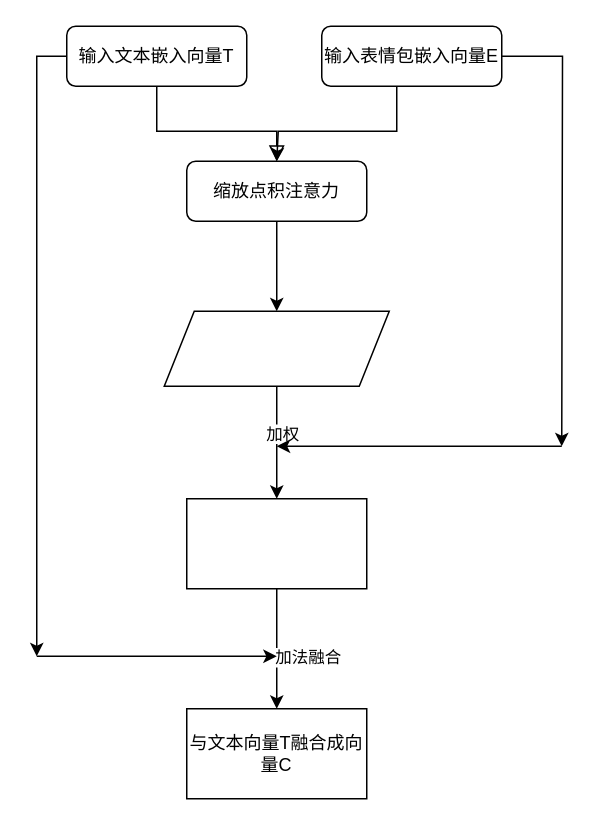
The diagram is 602 pixels wide and 825 high, and some of its shapes have lost their labels. The box of each missing label's shape, as (x1, y1, x2, y2) in pixels:
输出注意力权重矩阵A: (163, 310, 389, 386)
输出融合后的表情包向量E': (185, 497, 367, 589)
